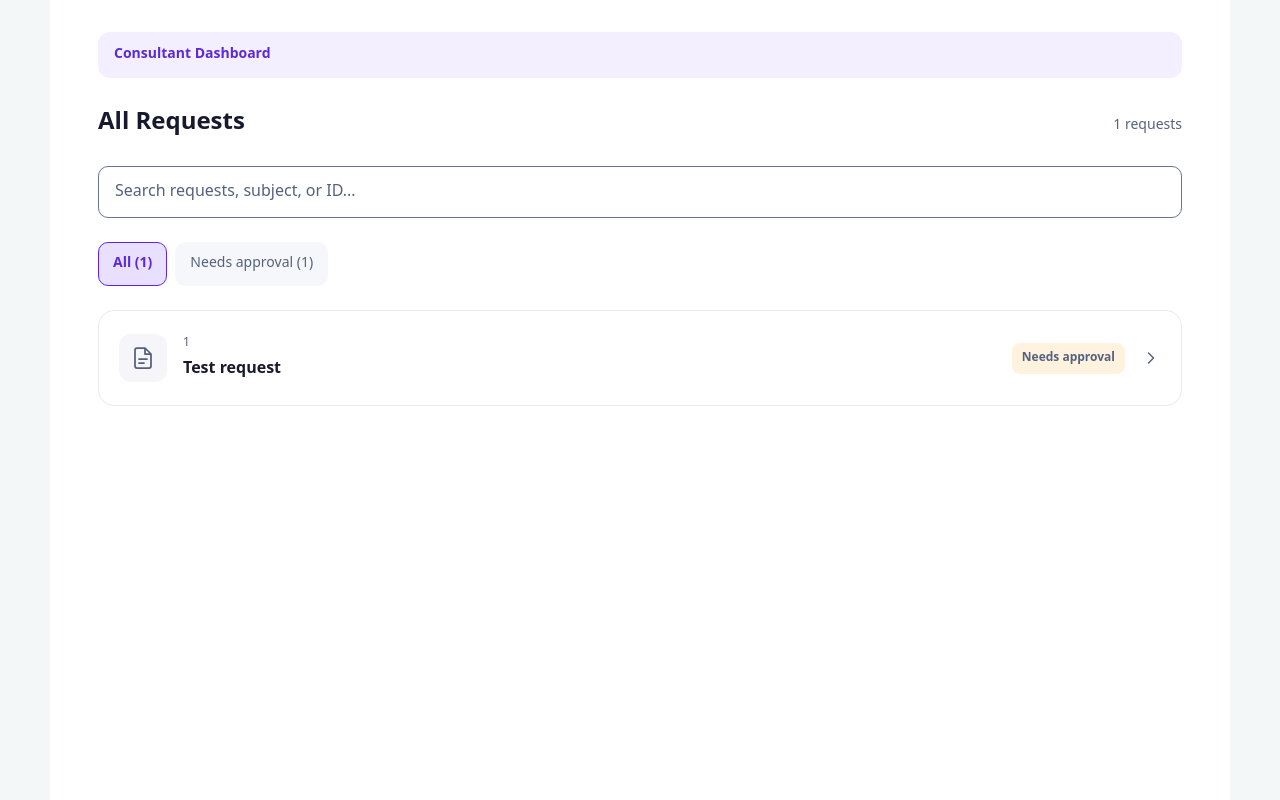
Test: review conversation UI › shows original user request first and approves the existing draft without retyping
Click the text "Test request": (232, 369) x1=183 y1=352 x2=281 y2=387
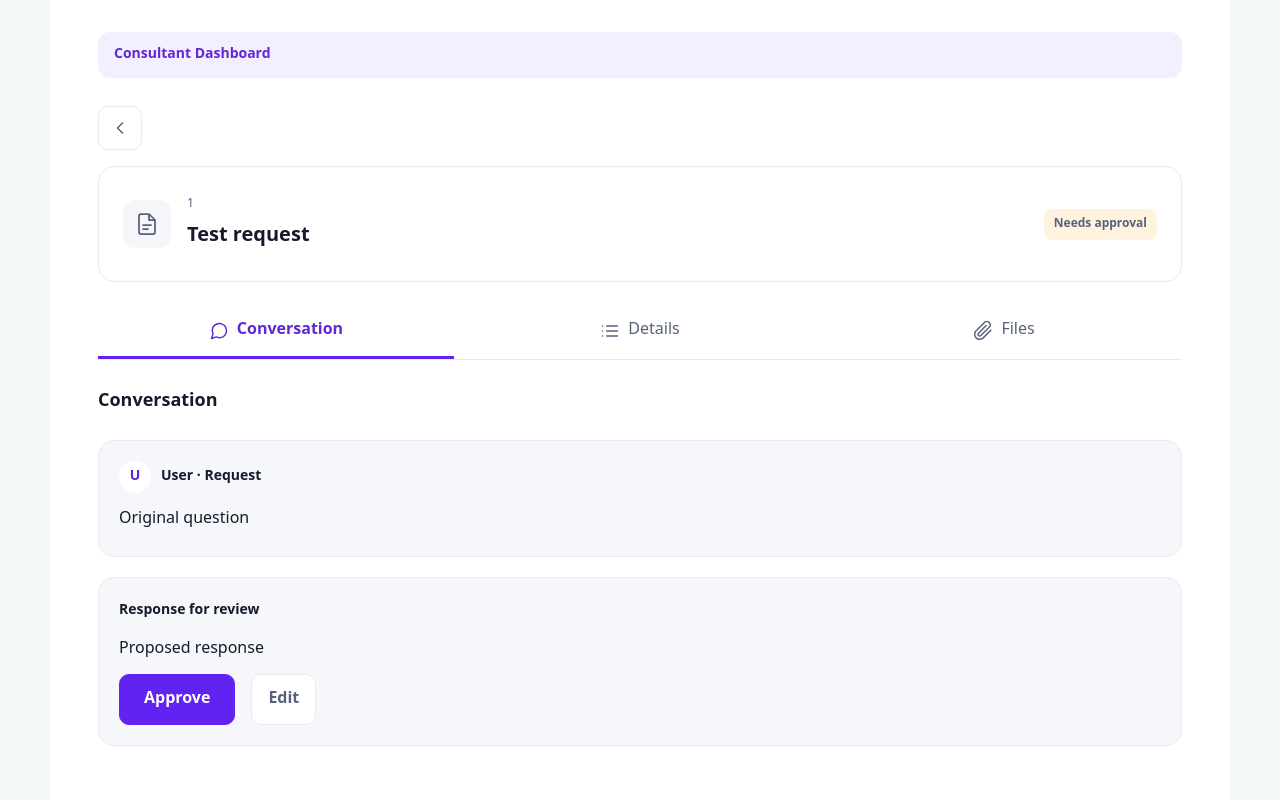
Now the element showing "U User · Request Original question" is shown, box x1=98 y1=440 x2=1182 y2=557
Now the element showing "Response for review Proposed response Approve Edit" is shown, box x1=98 y1=577 x2=1182 y2=746
Click the button "Approve": (177, 700) x1=119 y1=674 x2=235 y2=725
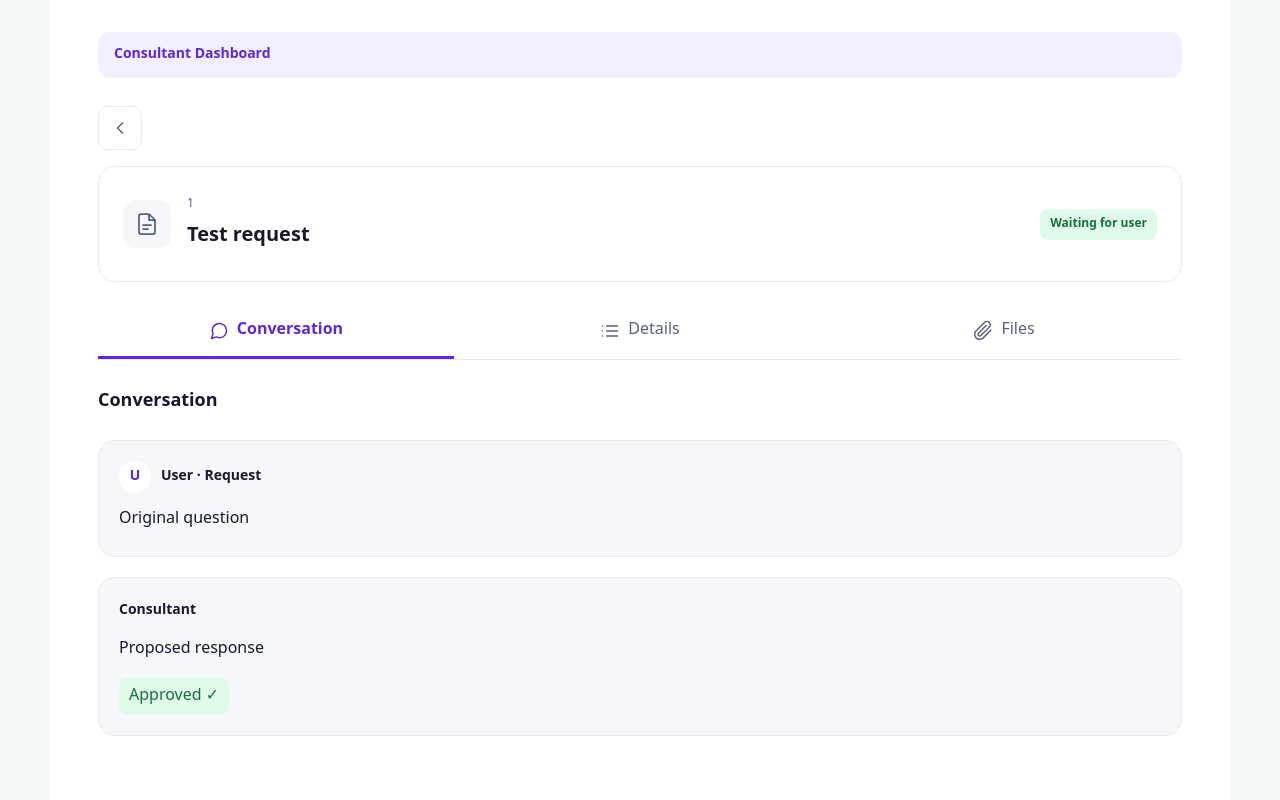
Now the button "Approved ✓" is disabled, box x1=119 y1=678 x2=229 y2=715
Now the button "Edit" is gone
